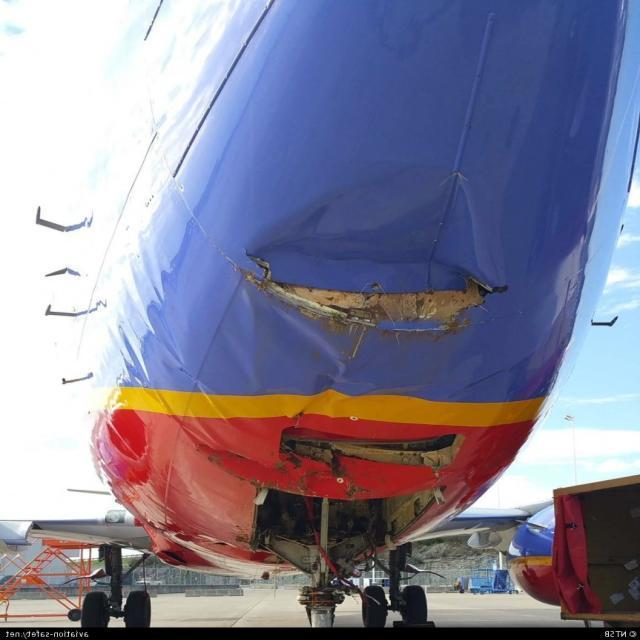dent: (247, 168, 535, 308), (248, 291, 347, 378)
